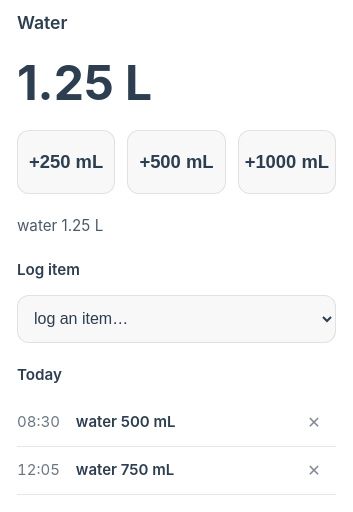
Test case: HomeView › deletes an entry via its id and refreshes
This screenshot has width=353, height=512.
Click the button with class "entry-delete" in the row of "08:30" at (314, 422), box [292,400,336,444]
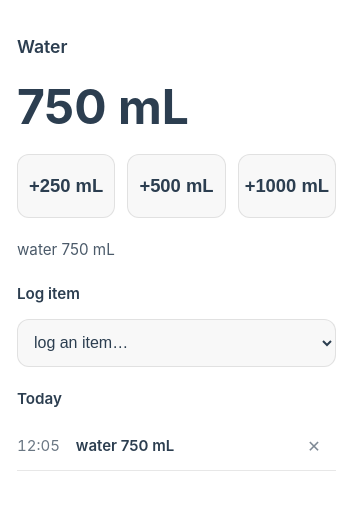
Check: the text with test id "water-total" reads "750 mL", box [17,77,189,136]
Check: the text "08:30" is gone
